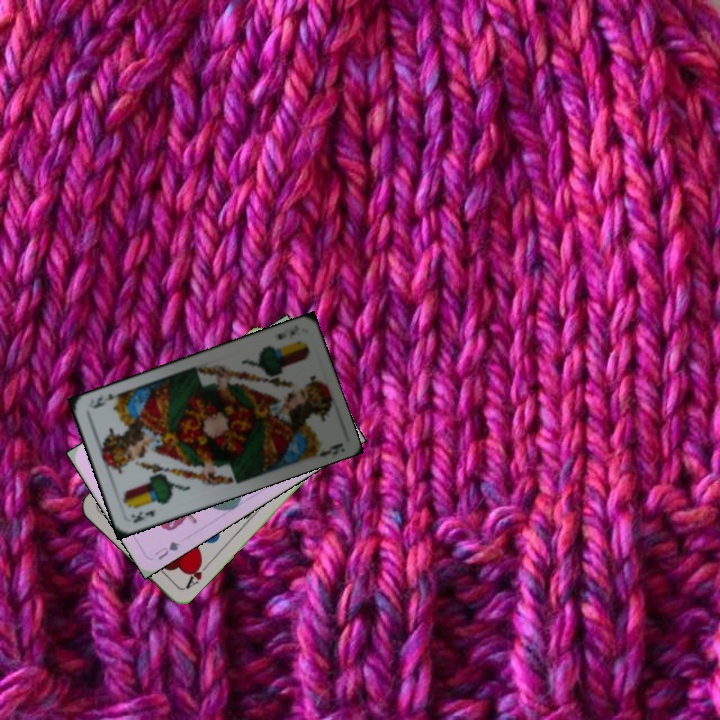EK: (127, 505, 159, 525), (273, 321, 301, 342)
GU: (151, 537, 183, 562)
HA: (181, 557, 212, 592)
